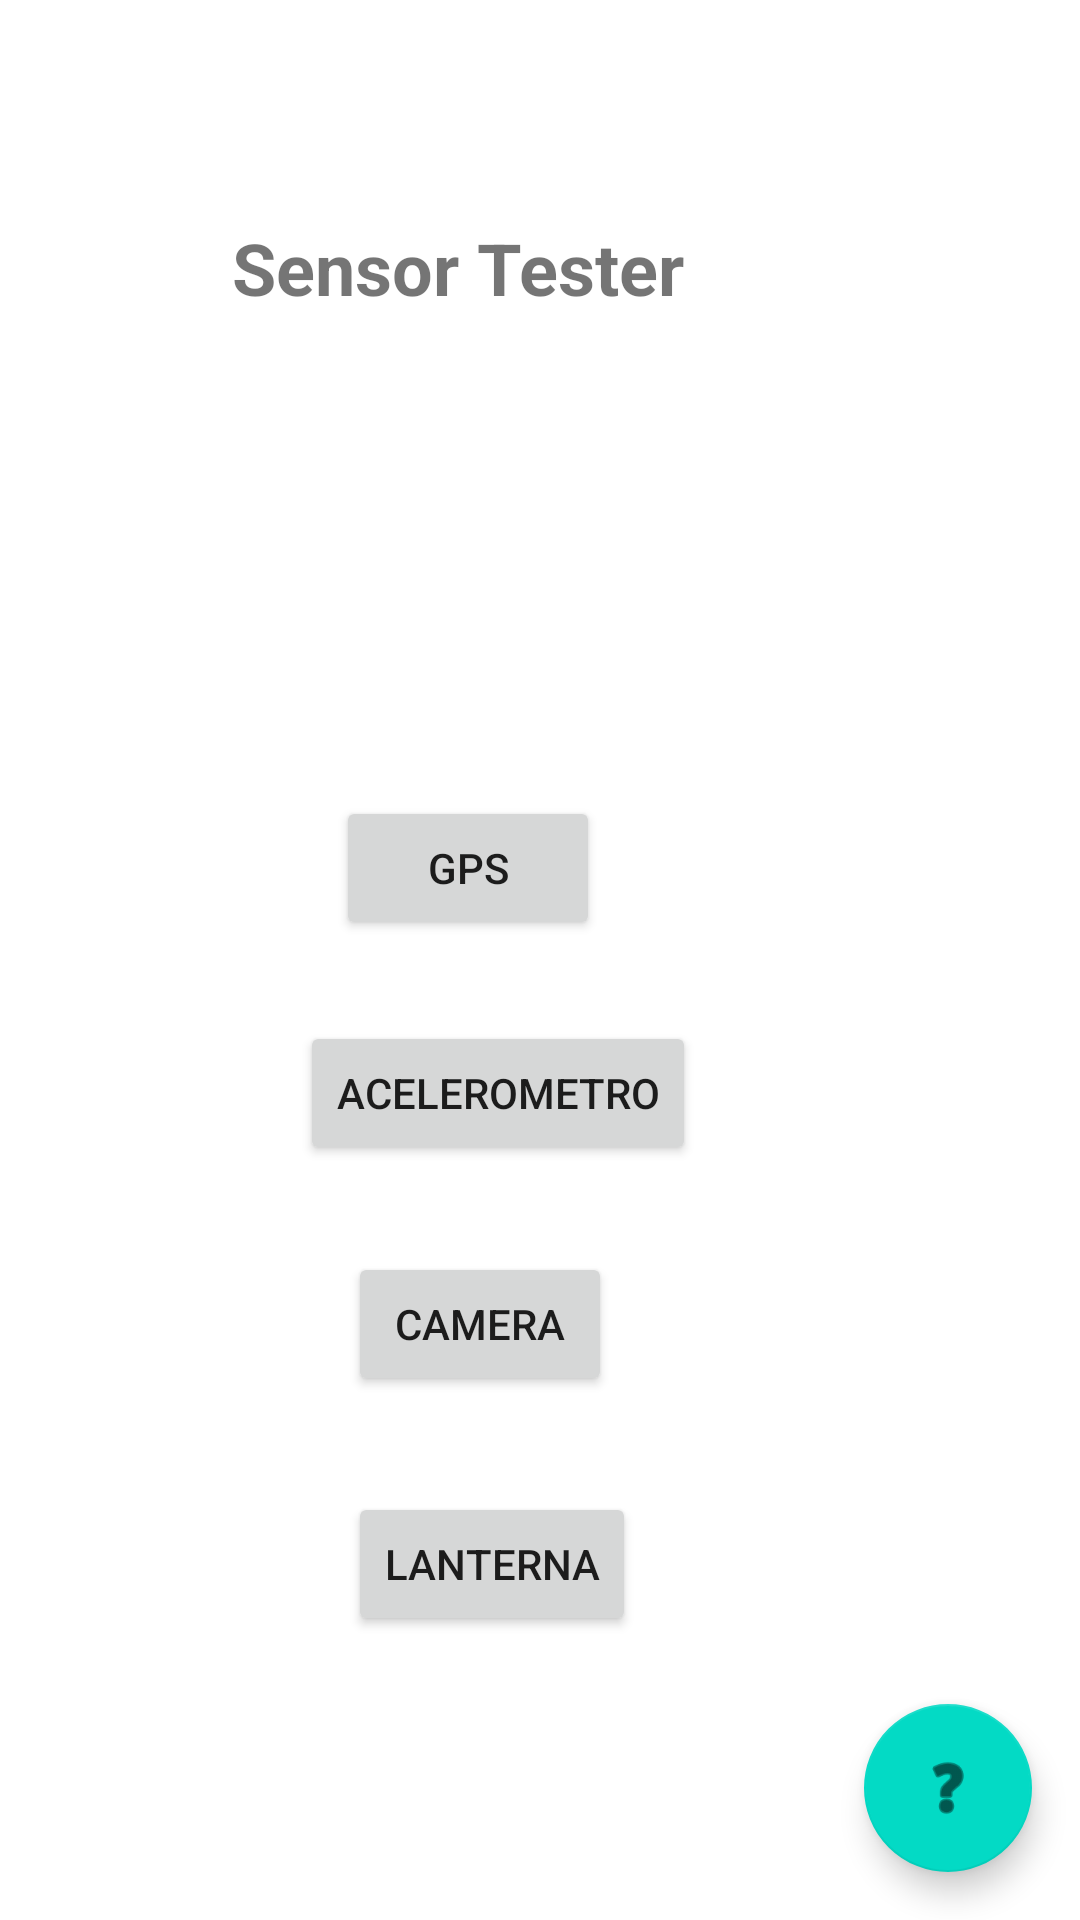

Screen size 1080*1920. Icon name, then its center in pixels as (x=x, y=y):
Ajuda: (x=948, y=1788)
